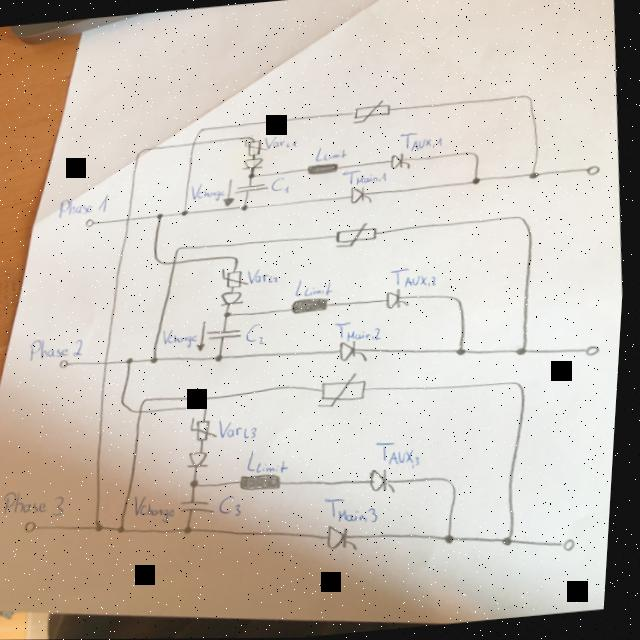capacitor: (184, 497, 222, 516), (208, 327, 246, 342), (235, 182, 270, 194)
crossover: (104, 358, 116, 366), (126, 216, 135, 223), (173, 258, 181, 265), (141, 408, 148, 415), (192, 140, 199, 147)
diode: (190, 450, 215, 470), (222, 289, 248, 306), (242, 156, 266, 171)
inductor: (243, 471, 287, 493), (292, 296, 334, 315), (307, 161, 341, 176)
junction: (442, 474, 462, 492), (450, 293, 467, 306), (135, 147, 152, 158), (123, 400, 137, 412), (156, 254, 169, 266), (517, 214, 531, 225), (448, 534, 462, 545), (506, 536, 520, 547), (517, 380, 530, 391), (518, 346, 532, 356), (528, 171, 542, 180), (99, 521, 110, 532), (458, 347, 471, 356), (521, 93, 534, 102), (197, 126, 210, 135), (193, 478, 206, 487), (152, 355, 163, 365), (470, 150, 482, 159), (144, 396, 155, 405), (217, 353, 228, 362), (121, 524, 132, 533), (188, 525, 199, 534), (472, 177, 483, 186), (127, 356, 139, 364), (176, 246, 187, 254), (230, 254, 242, 261), (248, 171, 258, 179), (241, 203, 250, 211), (226, 310, 236, 317), (157, 212, 166, 219), (181, 209, 190, 216), (249, 134, 256, 140), (204, 405, 212, 410)
terminal: (564, 538, 583, 553), (586, 344, 605, 358), (28, 520, 45, 533), (586, 165, 603, 177), (61, 358, 75, 369), (85, 216, 98, 227)
text: (5, 485, 72, 521), (327, 493, 386, 528), (30, 333, 89, 363), (377, 437, 427, 472), (138, 491, 183, 525), (57, 193, 114, 218), (335, 318, 389, 344), (250, 446, 295, 476), (391, 265, 442, 291), (221, 414, 263, 442), (399, 128, 446, 153), (296, 276, 338, 298), (343, 166, 389, 186), (190, 180, 229, 203), (164, 326, 203, 349), (313, 143, 351, 163), (248, 265, 282, 286), (264, 132, 299, 151), (246, 321, 271, 347), (221, 494, 248, 518), (271, 175, 293, 195)
thyristor: (331, 522, 365, 550), (341, 339, 372, 361), (373, 468, 401, 492), (387, 288, 413, 309), (350, 185, 374, 203), (390, 152, 413, 169)
